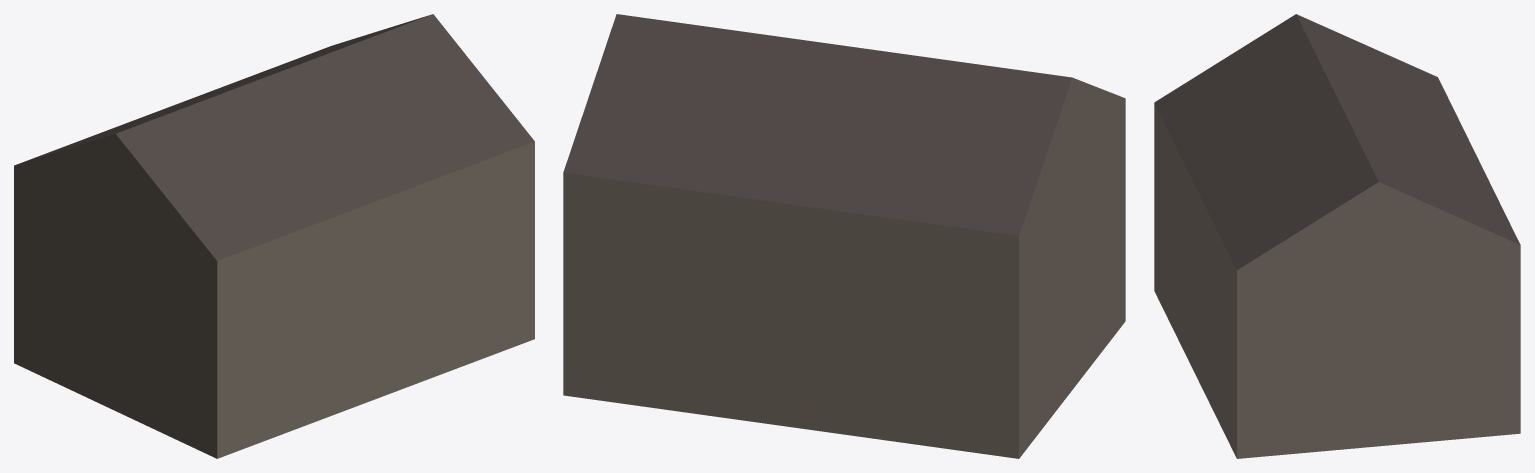
3 views of the same model, side by side, from view 1: azimuth 30°, elevation 25°; view 2: azimuth 150°, elevation 25°; view 3: azimuth 270°, elevation 25° (orthographic). The views are drawn at different scales.
Parts seen in each view (by area): view 1: HP-w378107105; view 2: HP-w378107105; view 3: HP-w378107105.
Boxes of the visible parts, box(x1,y1,x2,y2) form: HP-w378107105: box(14, 14, 534, 458); HP-w378107105: box(563, 14, 1125, 458); HP-w378107105: box(1154, 14, 1520, 458).
Size of the model in its own units: 13.19 by 8.41 by 10.57.
